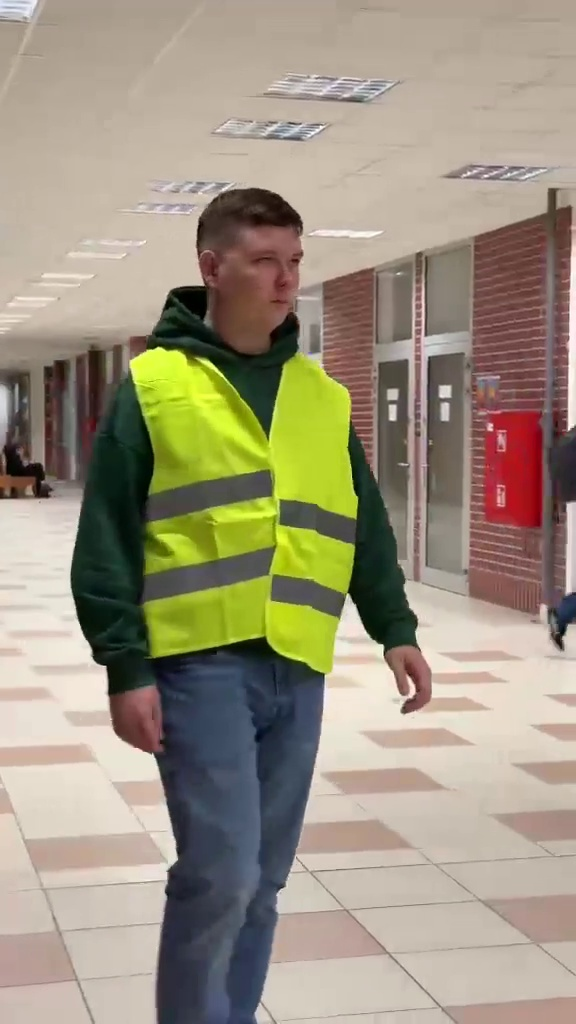vest: (59, 178, 442, 1003)
